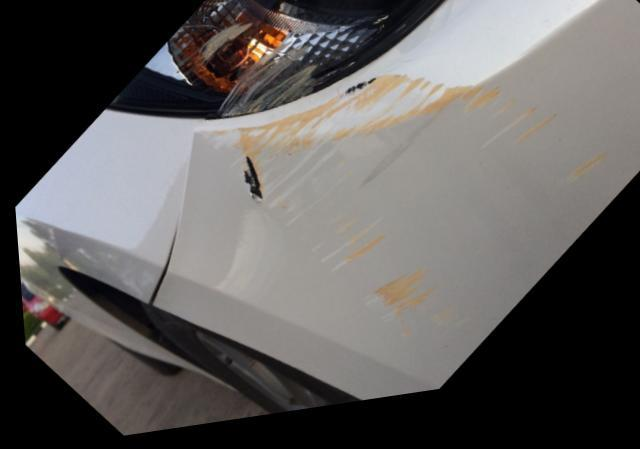scratch: (205, 83, 634, 358), (197, 27, 308, 123)
